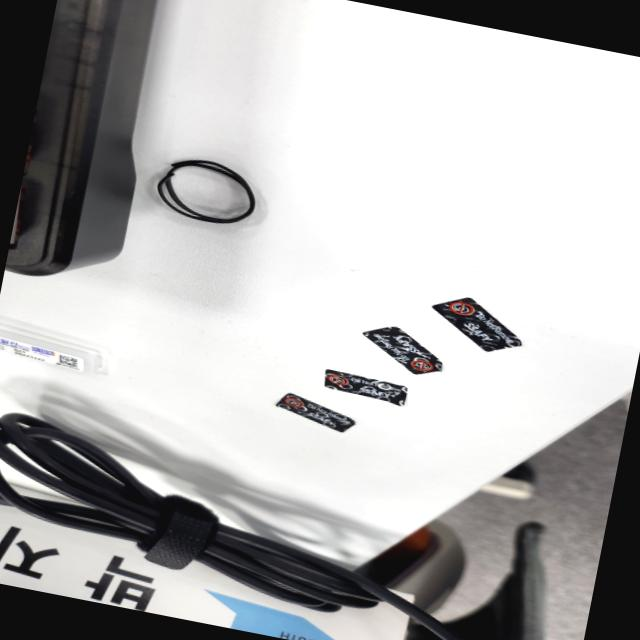removed_sticker: (423, 289, 528, 358), (359, 320, 448, 380), (274, 390, 358, 434), (321, 366, 410, 406)
